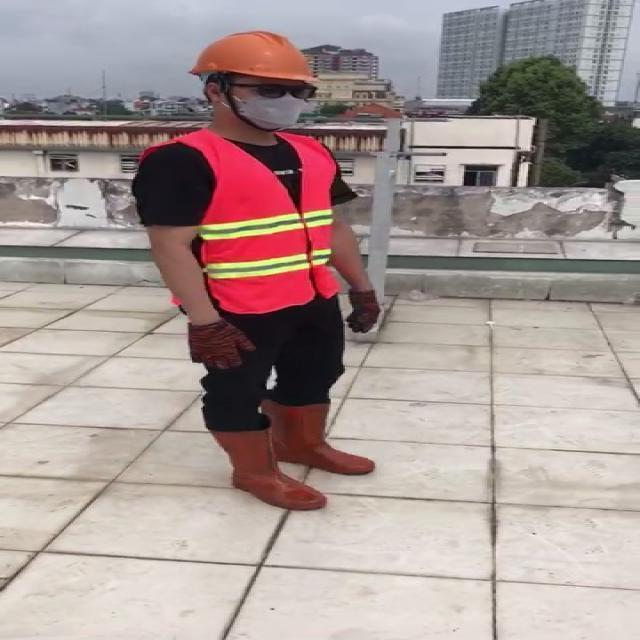gloves: (186, 316, 257, 372), (341, 285, 381, 336)
goggles: (221, 81, 322, 103)
helmet: (187, 28, 324, 82)
safety_vest: (158, 132, 341, 311)
